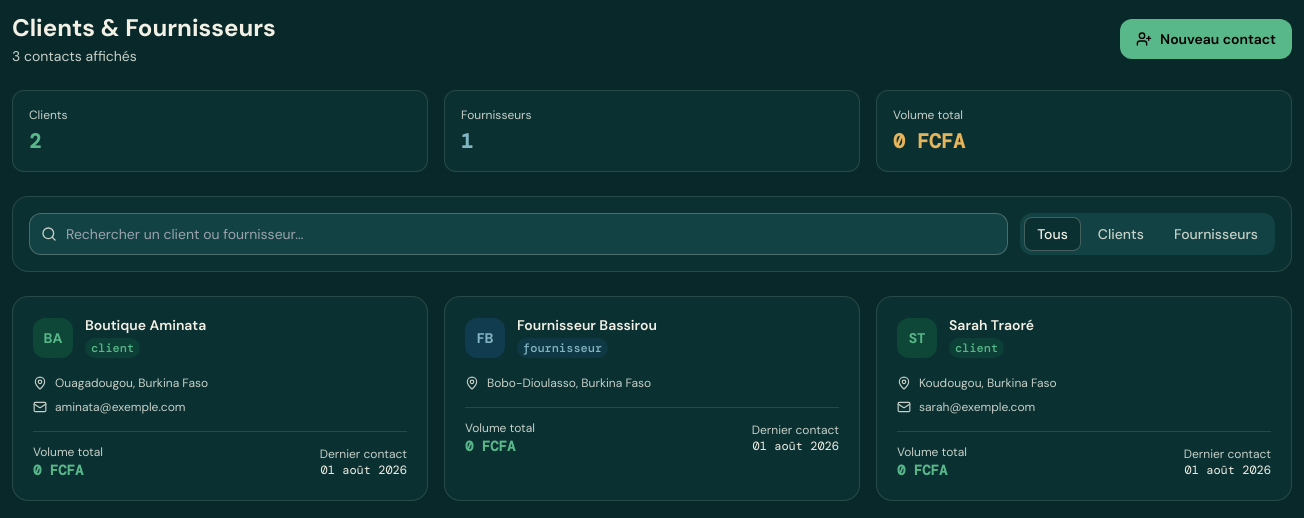
ClientsPage — recherche › filtre par nom, insensible à la casse
This screenshot has width=1304, height=518.
Expected: the text "Boutique Aminata" is shown, [85, 317, 206, 334]
Type "aminata" into the field with placeholder "Rechercher un client ou fournisseur..." at (519, 234), box [29, 213, 1008, 255]
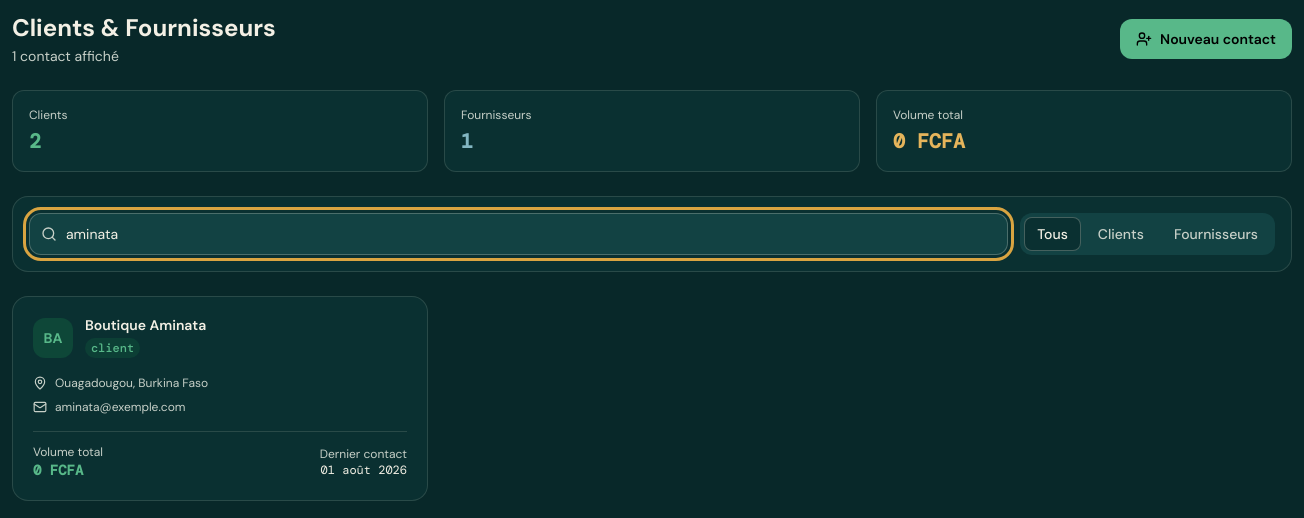
Expected: the text "Boutique Aminata" is shown, [85, 317, 206, 334]
Expected: the text "Fournisseur Bassirou" is gone
Expected: the text "Sarah Traoré" is gone
